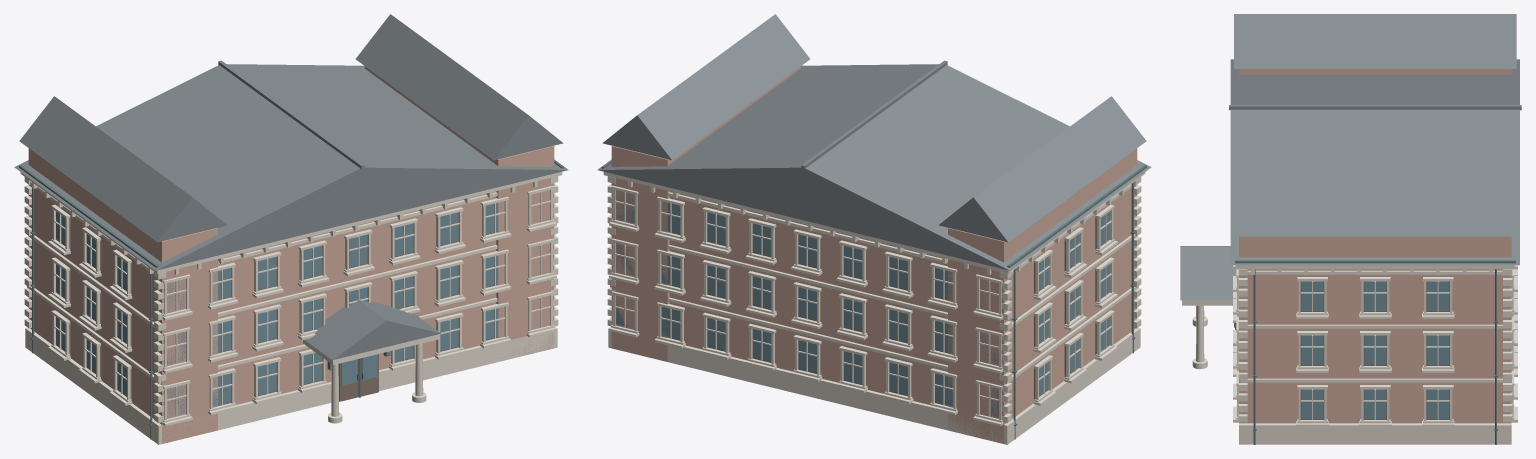
Rendered from science.glb.
3 renders of one model, left to right at view 1: azimuth 30°, elevation 25°; view 2: azimuth 150°, elevation 25°; view 3: azimuth 270°, elevation 25°, orthographic. The views are drawn at different scales.
Visible parts, largest first — view 1: science-roof, science-brick, science-stone, science-glass, science-wood, science-metal; view 2: science-roof, science-brick, science-stone, science-glass, science-wood, science-metal; view 3: science-roof, science-brick, science-stone, science-glass, science-metal, science-wood.
Part boxes in pixels (x1,y1,x2,y2): science-roof: (14, 14, 568, 360); science-brick: (28, 66, 554, 443); science-stone: (20, 171, 562, 444); science-glass: (56, 202, 499, 416); science-wood: (56, 212, 497, 405); science-metal: (19, 160, 563, 439); science-roof: (597, 14, 1151, 270); science-brick: (611, 66, 1137, 443); science-stone: (603, 171, 1145, 444); science-glass: (616, 193, 1109, 417); science-wood: (668, 212, 1109, 405); science-metal: (602, 160, 1146, 439); science-roof: (1180, 14, 1521, 300); science-brick: (1239, 69, 1511, 423); science-stone: (1182, 265, 1517, 444); science-glass: (1235, 281, 1448, 418); science-metal: (1234, 260, 1515, 444); science-wood: (1300, 281, 1449, 419).
Bounding box in the file's own units: 29.5 × 16.5 × 20.65.
